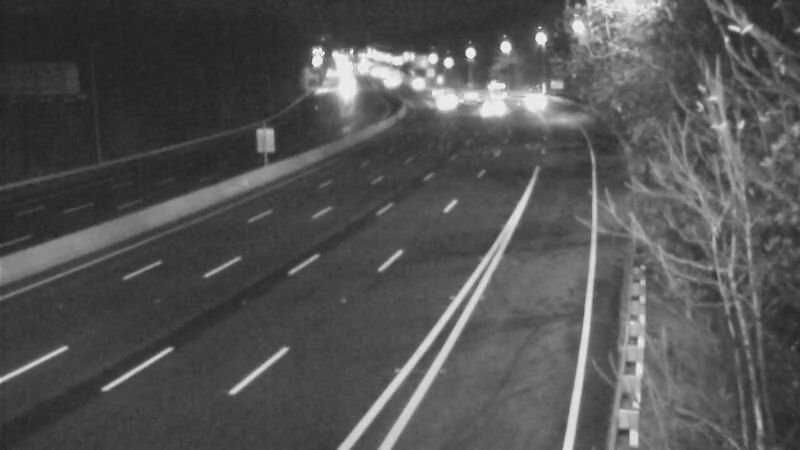vehicle: (391, 59, 441, 109), (470, 65, 520, 115), (445, 71, 495, 121), (509, 79, 559, 129), (419, 79, 469, 129), (458, 79, 508, 129)
